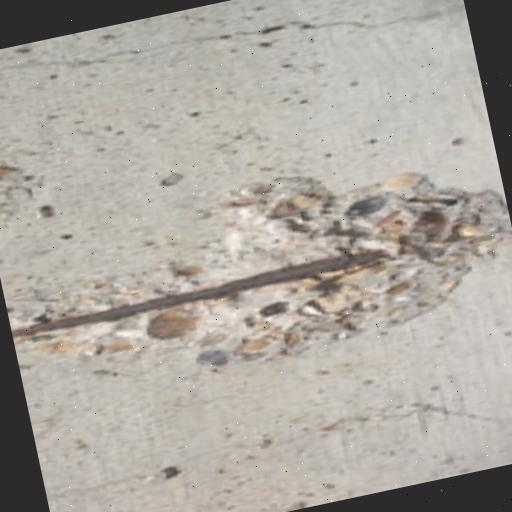spalling: (0, 124, 512, 410)
